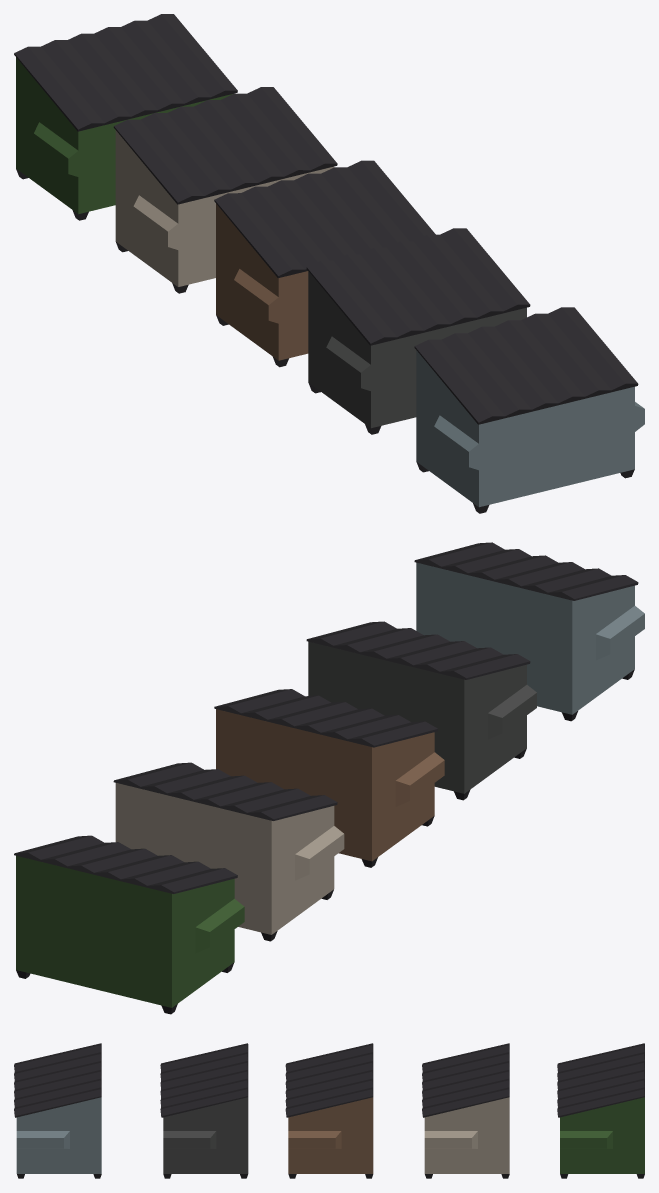
The model's file is prop_dumpster_group.fbx.
3 renders of one model, top to bottom at view 1: azimuth 30°, elevation 25°; view 2: azimuth 150°, elevation 25°; view 3: azimuth 270°, elevation 25°, orthographic. The views are drawn at different scales.
Parts seen in each view (by area): view 1: prop_dumptser_5, prop_dumptser_4, prop_dumptser_2, prop_dumptser_1, prop_dumptser_3; view 2: prop_dumptser_1, prop_dumptser_5, prop_dumptser_3, prop_dumptser_2, prop_dumptser_4; view 3: prop_dumptser_4, prop_dumptser_3, prop_dumptser_2, prop_dumptser_5, prop_dumptser_1.
Boxes of the visible parts, left/top/right/bottom form: prop_dumptser_5: left=414, top=307, right=644, bottom=513; prop_dumptser_4: left=306, top=228, right=530, bottom=434; prop_dumptser_2: left=113, top=87, right=337, bottom=293; prop_dumptser_1: left=14, top=14, right=237, bottom=220; prop_dumptser_3: left=214, top=160, right=435, bottom=367; prop_dumptser_1: left=14, top=835, right=244, bottom=1014; prop_dumptser_5: left=414, top=542, right=644, bottom=721; prop_dumptser_3: left=214, top=689, right=444, bottom=867; prop_dumptser_2: left=113, top=762, right=344, bottom=941; prop_dumptser_4: left=306, top=621, right=536, bottom=800; prop_dumptser_4: left=160, top=1043, right=248, bottom=1178; prop_dumptser_3: left=285, top=1043, right=373, bottom=1178; prop_dumptser_2: left=422, top=1043, right=509, bottom=1178; prop_dumptser_5: left=14, top=1043, right=101, bottom=1178; prop_dumptser_1: left=557, top=1043, right=644, bottom=1178.
Bounding box in the file's own units: 25.39 × 17.56 × 116.
